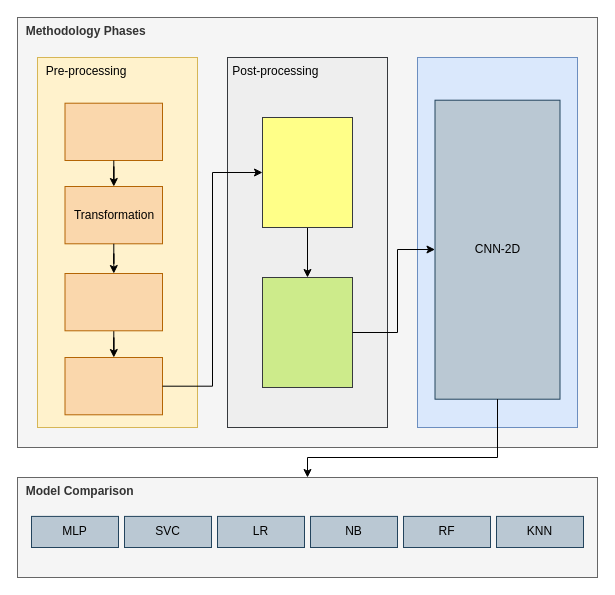
Image size: 615x595. Some labels were removed from this diagram. Each missing label, with the box of its shape:
Cleaning: (64, 102, 162, 160)
Filtering Areas: (64, 272, 162, 331)
Genetic Algorithm: (262, 116, 352, 228)
Matrices Construction: (262, 276, 352, 388)
Model Training: (416, 56, 578, 428)
Resampling: (64, 356, 162, 415)
